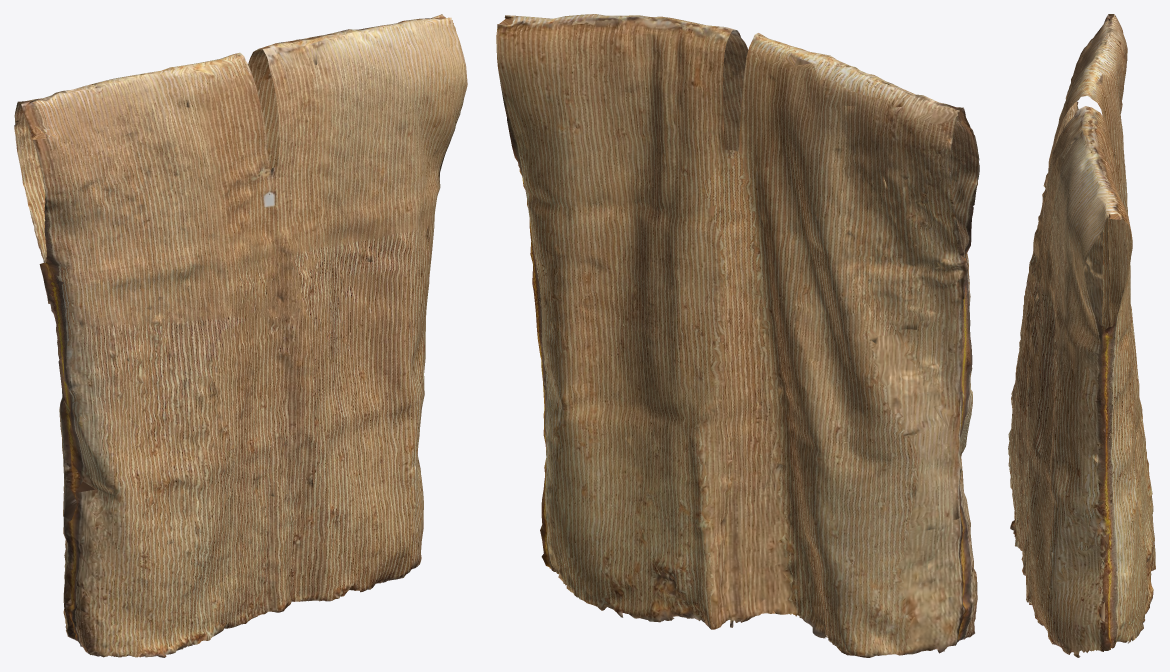
3 views of the same model, side by side, from view 1: azimuth 30°, elevation 25°; view 2: azimuth 150°, elevation 25°; view 3: azimuth 270°, elevation 25° (orthographic). The views are drawn at different scales.
Parts seen in each view (by area): view 1: ME1428; view 2: ME1428; view 3: ME1428.
Part boxes in pixels (left/top/right/bottom): ME1428: left=14, top=14, right=467, bottom=657; ME1428: left=496, top=14, right=979, bottom=657; ME1428: left=1008, top=14, right=1155, bottom=657.
Bounding box in the file's own units: 2.55 × 3.08 × 0.8464.
1 material, 1 textured.
